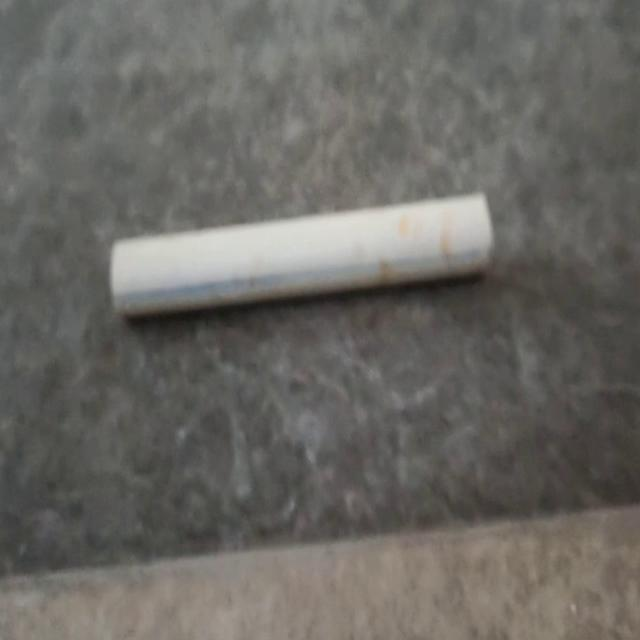Cube: (109, 188, 495, 320)
